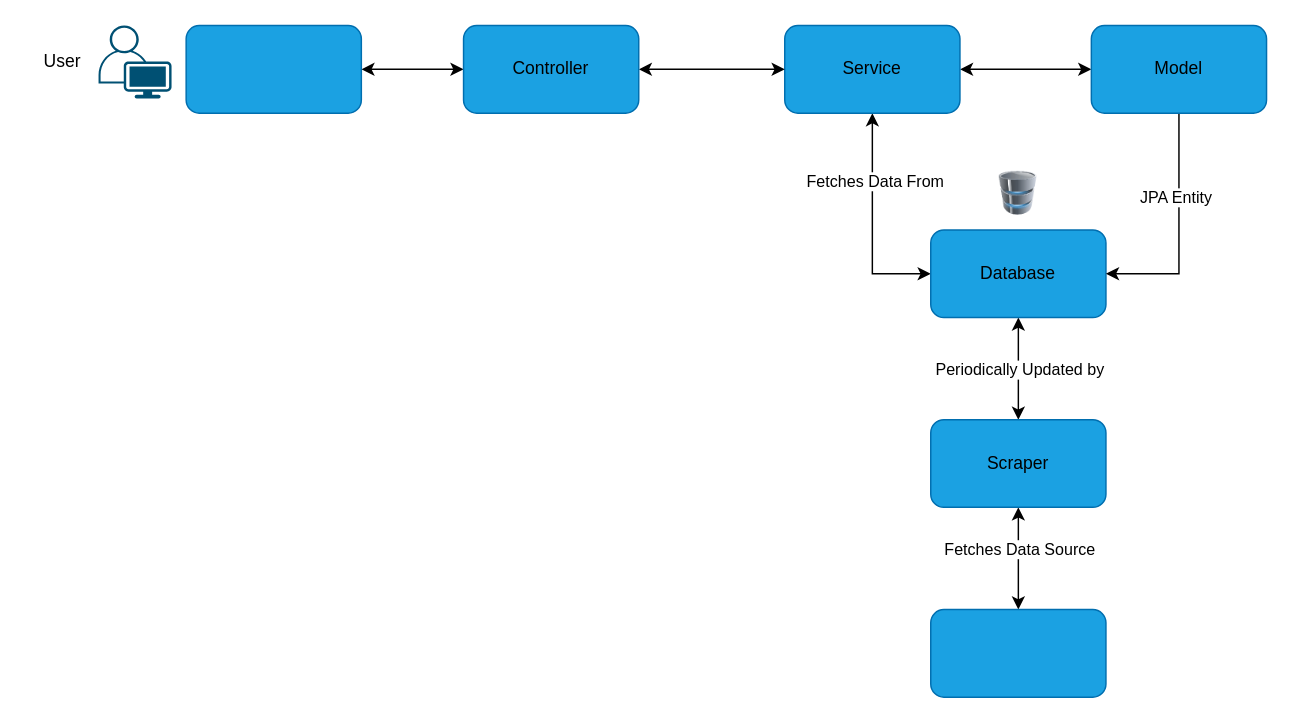
Image size: 1292x723. Some labels were removed from this diagram. The centre of each missing label's shape, as x and y in pixels:
"App UI" goes at [273,68].
"MSE Website" goes at [1017,652].
